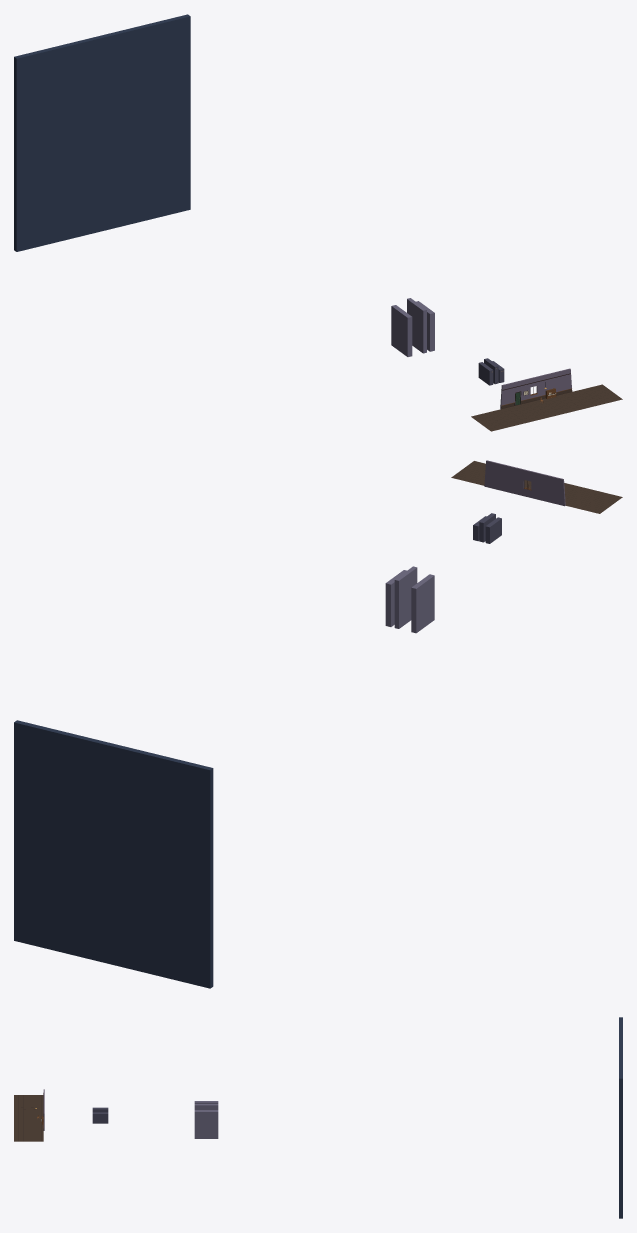
File: flat.glb
The picture shows the model from 3 angles, top to bottom: view 1: azimuth 30°, elevation 25°; view 2: azimuth 150°, elevation 25°; view 3: azimuth 270°, elevation 25°; orthographic projection. The views are drawn at different scales.
Visible parts, largest first — view 1: sky, flat, city, floor; view 2: sky, city, flat, floor; view 3: city, flat, sky, floor.
Boxes of the visible parts, <box> form: sky: <box>14,14,190,251</box>; flat: <box>481,368,622,431</box>; city: <box>391,298,504,385</box>; floor: <box>471,384,611,423</box>; sky: <box>14,720,213,988</box>; city: <box>385,513,501,633</box>; flat: <box>462,460,622,506</box>; floor: <box>451,470,610,513</box>; city: <box>92,1101,218,1138</box>; flat: <box>14,1089,44,1141</box>; sky: <box>619,1017,622,1218</box>; floor: <box>29,1095,43,1141</box>.
Size of the model in its own units: 39.87 by 39.25 by 155.
